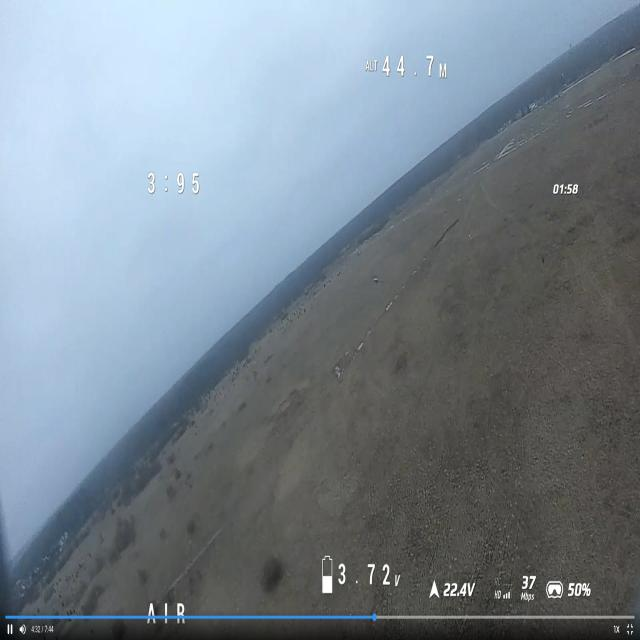planedrone: (366, 269, 384, 288)
